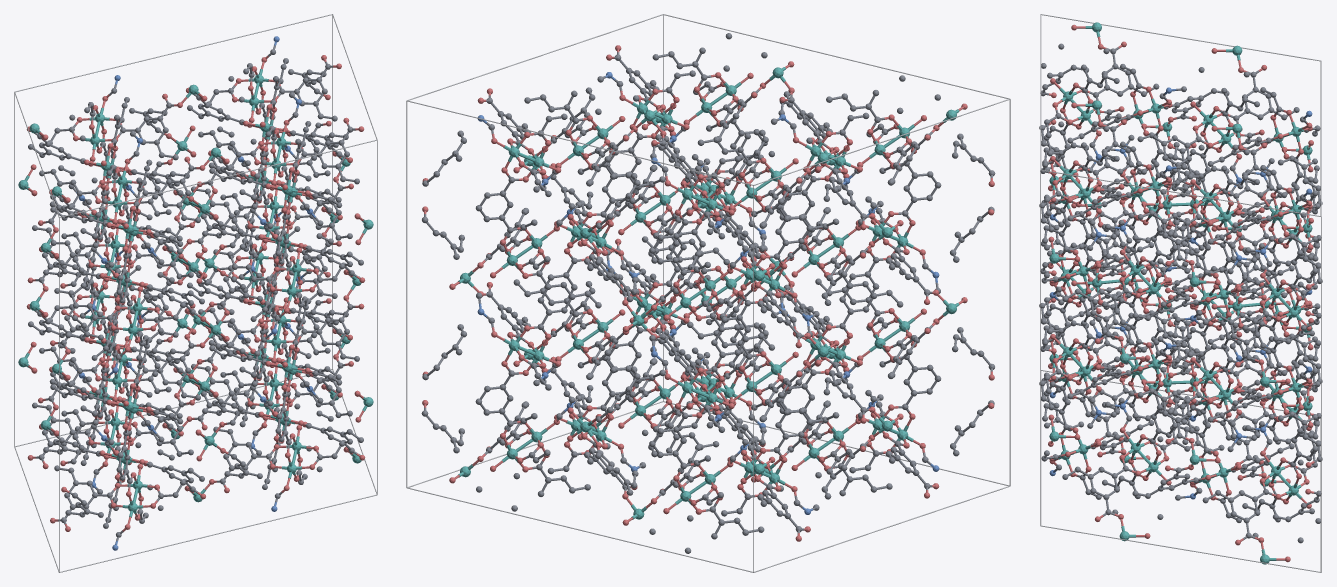
The model's file is Vinyl_Cu_MOF_2x2x2_disorder_clean.glb.
The picture shows the model from 3 angles, left to right: view 1: azimuth 30°, elevation 25°; view 2: azimuth 150°, elevation 25°; view 3: azimuth 270°, elevation 25°; orthographic projection. The views are drawn at different scales.
Visible parts, largest first — view 1: e3_7, e1_5, e2_6; view 2: e4_6, e1_3; view 3: e4_5, e6_7, e2_3.
Boxes of the visible parts, box(x1,y1,x2,y2) form: e3_7: box(59, 139, 377, 217); e1_5: box(59, 494, 377, 572); e2_6: box(15, 14, 332, 92); e4_6: box(406, 101, 407, 487); e1_3: box(1009, 99, 1010, 485); e4_5: box(1041, 525, 1320, 572); e6_7: box(1041, 169, 1321, 216); e2_3: box(1041, 14, 1320, 61).
Size of the model in its own units: 45.49 by 38.13 by 26.91.
